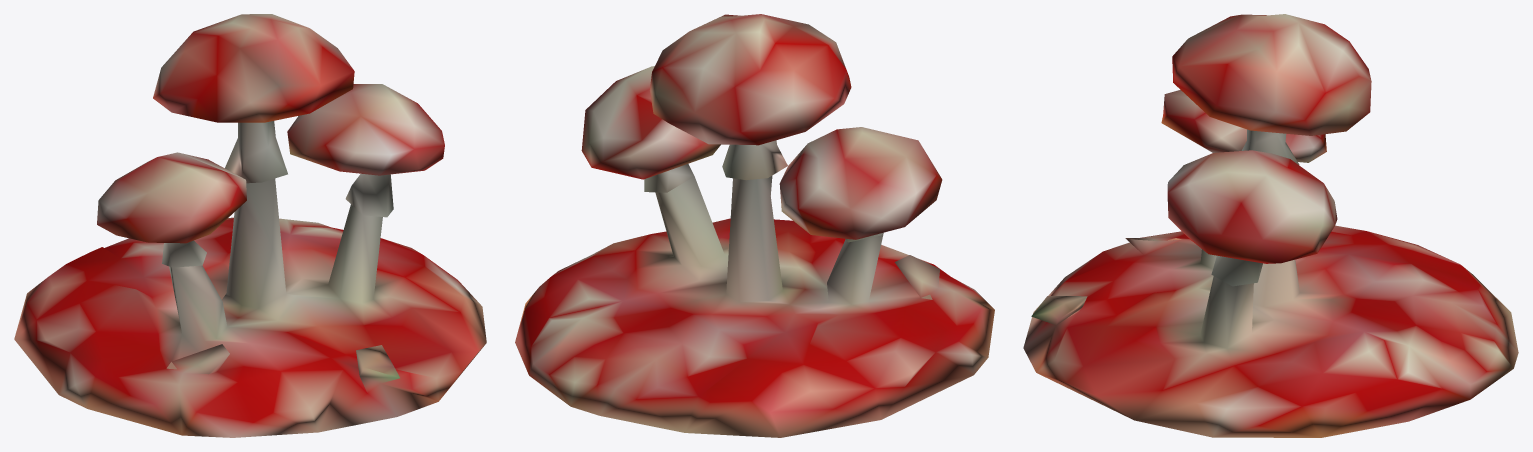
Rendered from mushroom_fly.glb.
The picture shows the model from 3 angles, left to right: view 1: azimuth 30°, elevation 25°; view 2: azimuth 150°, elevation 25°; view 3: azimuth 270°, elevation 25°; orthographic projection. The views are drawn at different scales.
Size of the model in its own units: 1.68 by 1.23 by 1.73.
